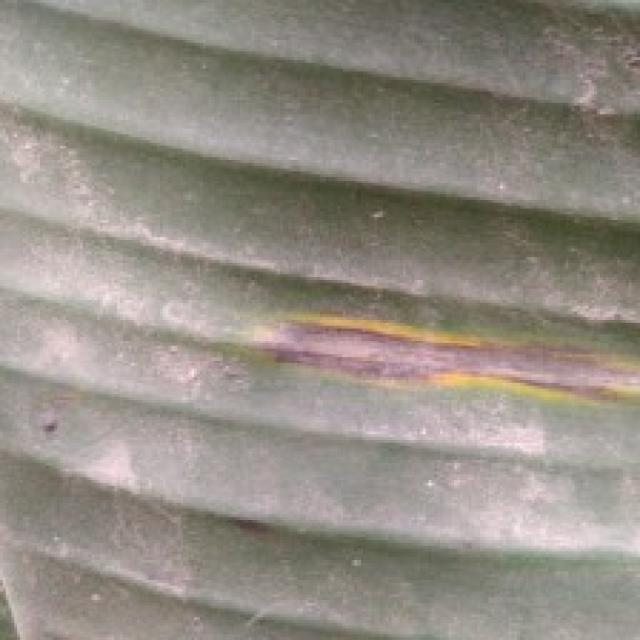Early_leaf_spot: (250, 297, 640, 418)
